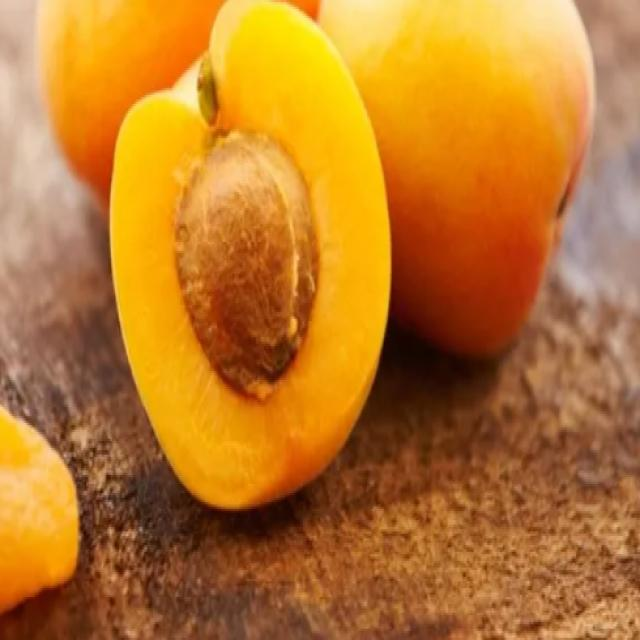kayisi: (109, 0, 393, 512), (319, 0, 597, 384), (36, 0, 322, 161)
kayisi cekirdegi: (172, 129, 320, 405)
